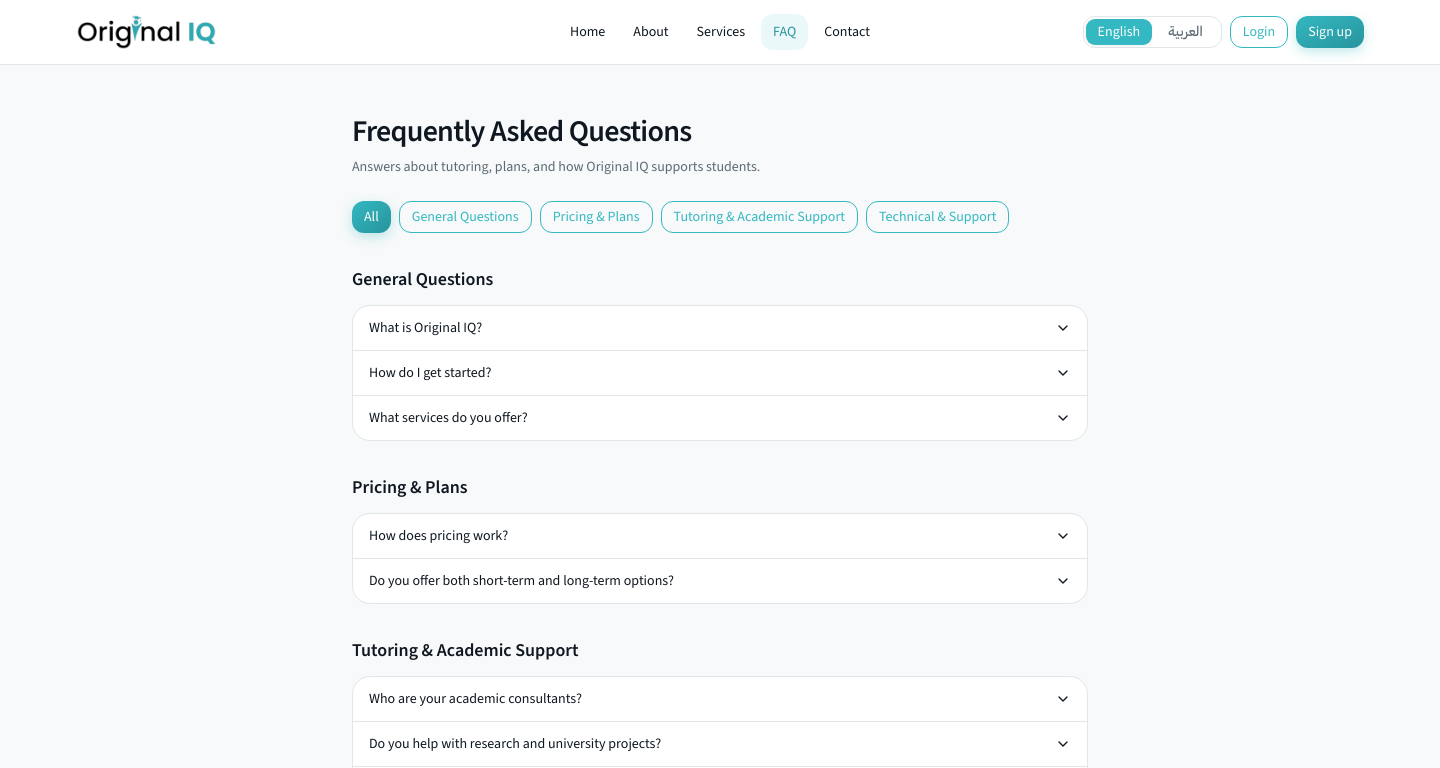
Test case: localized public routes › switches language while keeping the path and hash
Expected: the heading "Frequently Asked Questions" is shown, top-left (352, 111), bottom-right (691, 151)
What coordinates should you click on to do the following:
click the link "العربية"
I would click on:
 (1186, 32)
Its box is top-left (1168, 22), bottom-right (1203, 41).
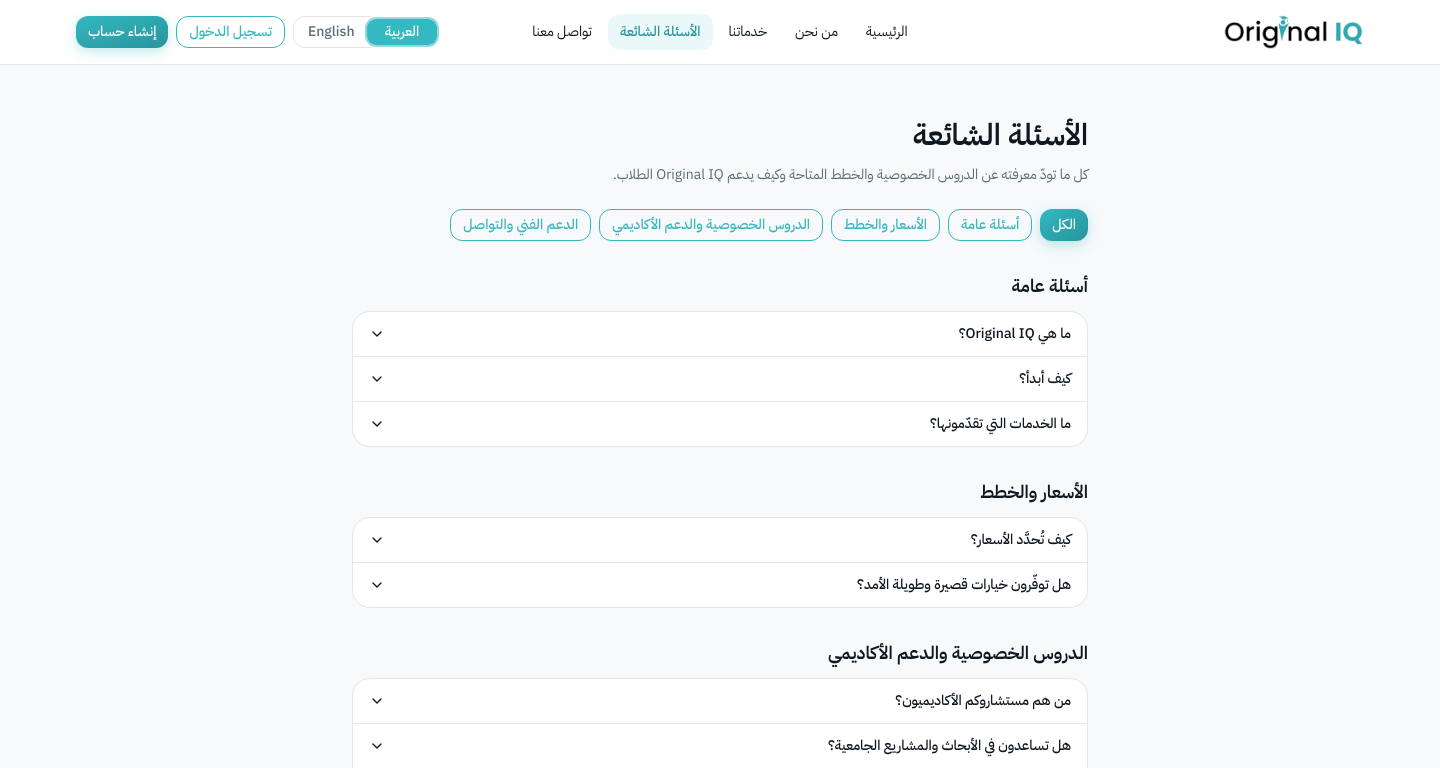
Now the heading "الأسئلة الشائعة" is shown, box top-left (913, 112), bottom-right (1088, 157)
